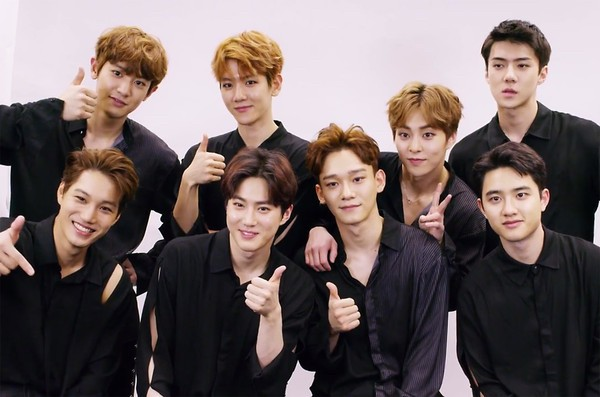people: (467, 142, 590, 389), (32, 147, 134, 397), (307, 122, 394, 397), (207, 147, 298, 397), (474, 18, 573, 227), (209, 32, 309, 237), (71, 25, 154, 258), (384, 82, 467, 259)
